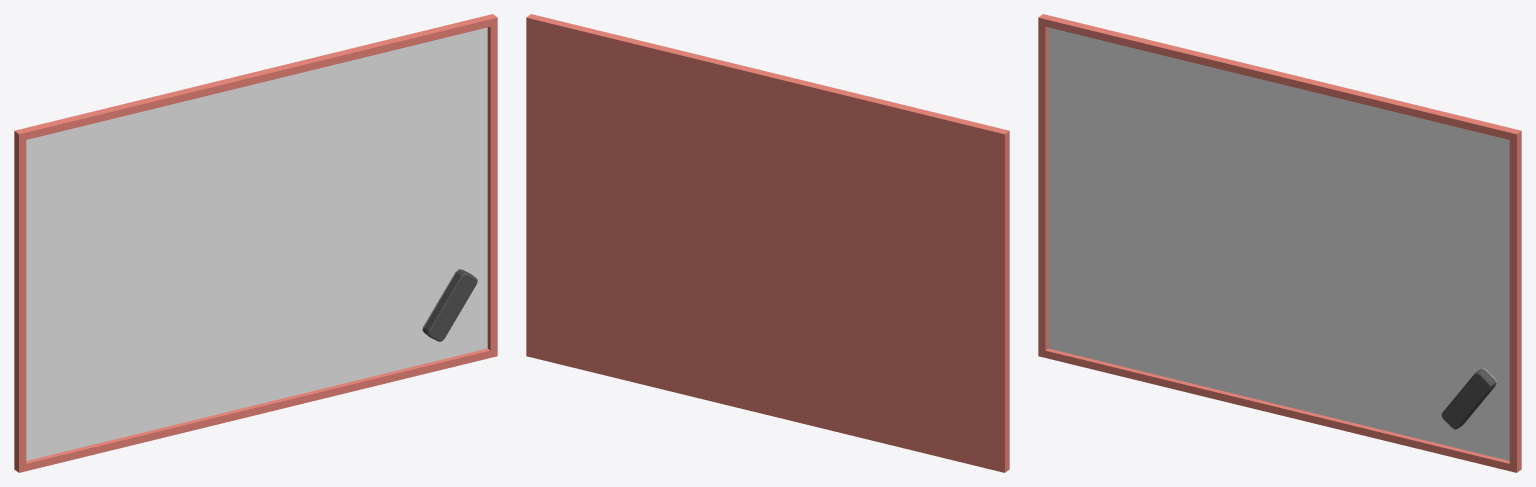
File: WhiteBoard_01.gltf
The picture shows the model from 3 angles, left to right: view 1: azimuth 30°, elevation 25°; view 2: azimuth 150°, elevation 25°; view 3: azimuth 330°, elevation 25°; orthographic projection.
Visible parts, largest first — view 1: node-0; view 2: node-0; view 3: node-0.
Part boxes in pixels (x1,y1,x2,y2): node-0: [14, 14, 497, 472]; node-0: [526, 14, 1009, 472]; node-0: [1038, 14, 1521, 472].
Size of the model in its own units: 9.96 by 6.73 by 0.2969.
